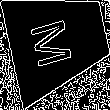M_E: (33, 13, 83, 70)
